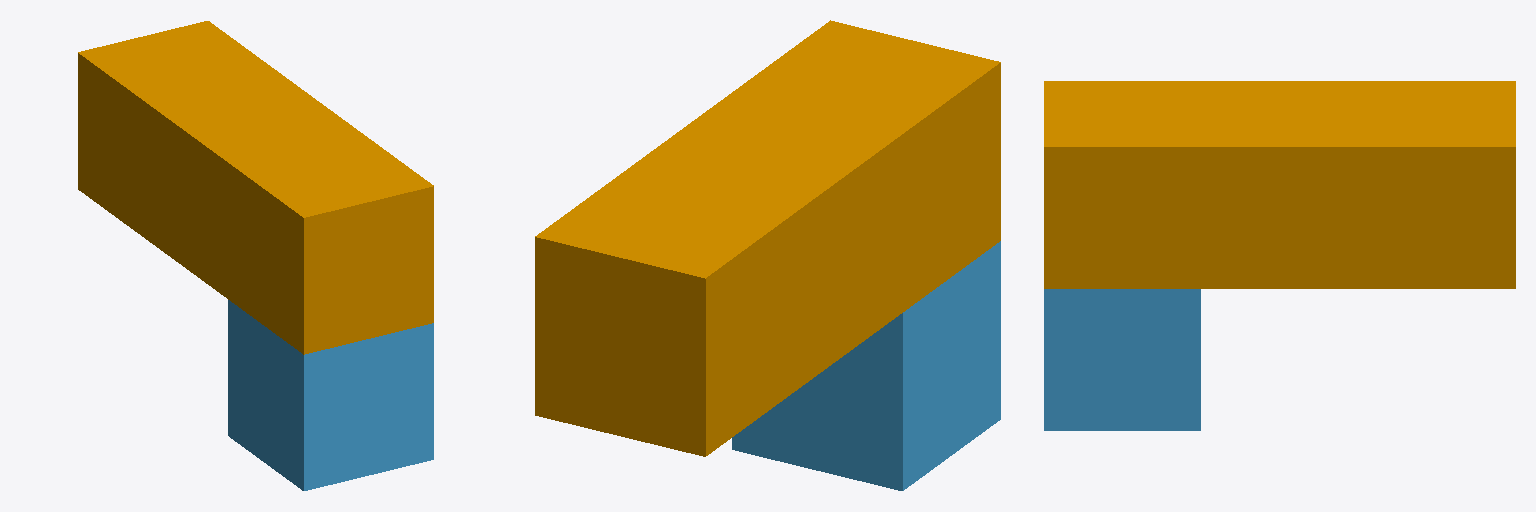
URDF robot description (multipleshapes):
<?xml version="1.0"?>
<robot name="multipleshapes">
  <link name="cuboid">
    <inertial>
      <mass value="2"/>
    	<inertia ixx="0.333" ixy="0" ixz="0" iyy="0.833" iyz="0" izz="0.833"/>
  	</inertial>
    <collision>
      <geometry>
        <box size="1 3 1"/>
      </geometry>
    </collision>
    <visual>
      <geometry>
        <box size="1 3 1"/>
      </geometry>
    </visual>
  </link>

  <link name="cube">

    <inertial>
      <mass value="1"/>
    	<inertia ixx="0.167" ixy="0" ixz="0" iyy="0.167" iyz="0" izz="0.167"/>
  	</inertial>

    <collision>
      <geometry>
        <box size="1 1 1"/>
      </geometry>
	<origin rpy="0 0 0" xyz="0 -1 -1"/>
    </collision>
    <visual>
      <geometry>
        <box size="1 1 1"/>
      </geometry>
	<origin rpy="0 0 0" xyz="0 -1 -1"/>
    </visual>
  </link>

  <joint name="base_to_right_leg" type="fixed">
    <parent link="cuboid"/>
    <child link="cube"/>
  </joint>

</robot>

--- What the picture shows (computed from the rendered views, not written in the file) ---
Views: 3 orthographic renders of the robot side by side, from view 1: azimuth 30°, elevation 25°; view 2: azimuth 150°, elevation 25°; view 3: azimuth 270°, elevation 25°.
Model multipleshapes with 2 links and 1 joints (1 fixed), rooted at cuboid, posed all joints at 0.
Links seen in each view (by area): view 1: cuboid, cube; view 2: cuboid, cube; view 3: cuboid, cube.
Boxes of the visible links, left/top/right/bottom form: cuboid: left=78, top=21, right=433, bottom=354; cube: left=228, top=300, right=433, bottom=490; cuboid: left=535, top=20, right=1000, bottom=456; cube: left=732, top=241, right=1000, bottom=490; cuboid: left=1044, top=81, right=1515, bottom=288; cube: left=1044, top=289, right=1200, bottom=430.
Bounding box of the posed robot: 1 × 3 × 2 m (x, y, z).
Geometry: primitives only (box / cylinder / sphere), no mesh files.